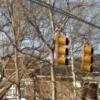Traffic light: (50, 25, 100, 84)
